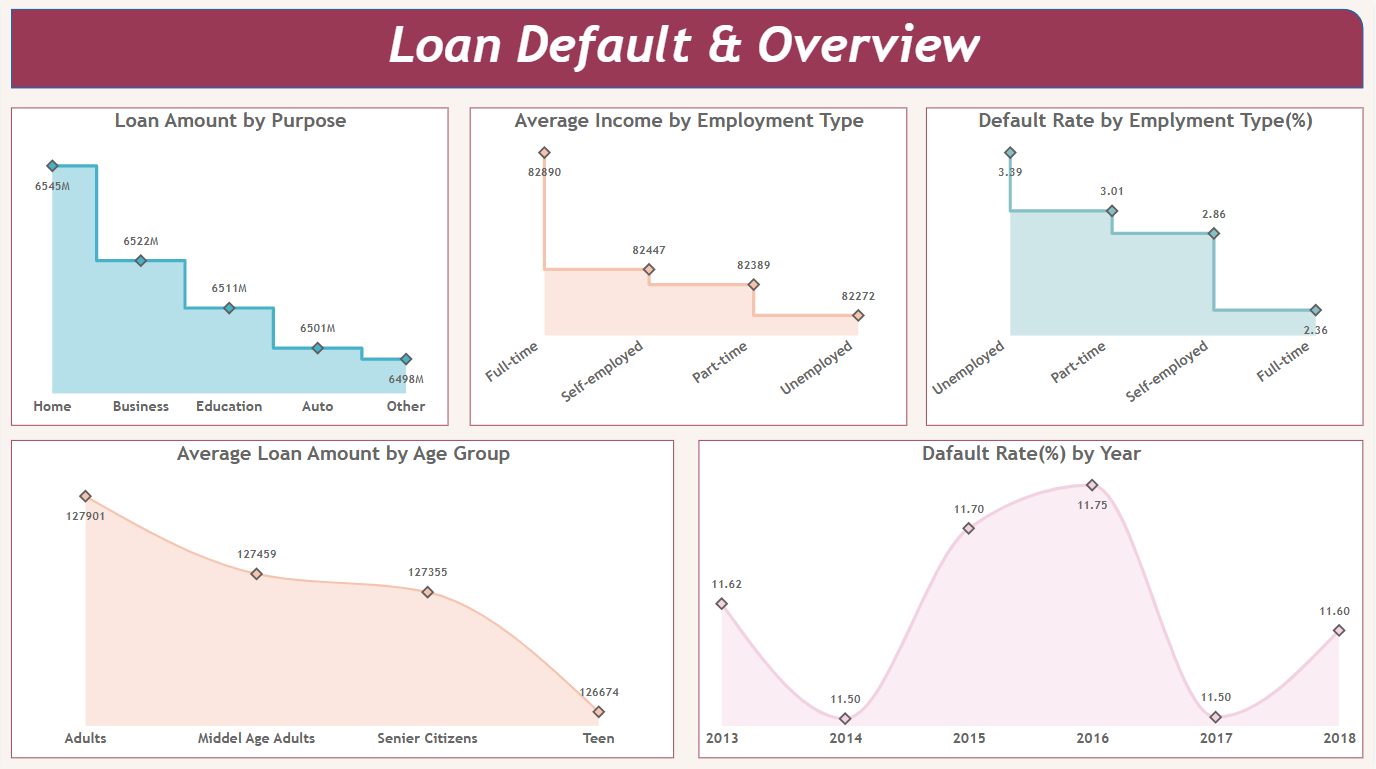

This screenshot's page, from the dashboard's own definition file:
{"tool":"powerbi","page":{"name":"Loan Default & Overview","canvas":[1280,720],"ordinal":0},"visuals":[{"type":"shape","box":[9.5,8.1,1261.4,74.3],"z":0},{"type":"lineChart","title":"Loan Amount by Purpose ","fields":{"Y":["Measures Table 1.Loan Amount by Purpose"],"Category":["Loan_default.LoanPurpose"]},"box":[9.5,99.9,407.9,297.1],"z":1000},{"type":"lineChart","title":"Average Income by Employment Type","fields":{"Y":["Measures Table 1.Average Income by EmployementType"],"Category":["Loan_default.EmploymentType"]},"box":[437.6,99.9,407.9,297.1],"z":2000},{"type":"lineChart","title":"Default Rate by Emplyment Type(%)","fields":{"Y":["Measures Table 1.Default Rate by Employment Type"],"Category":["Loan_default.EmploymentType"]},"box":[863,99.9,407.9,297.1],"z":3000},{"type":"lineChart","title":"Average Loan Amount by Age Group","fields":{"Category":["Loan_default.Age Group"],"Y":["Measures Table 1.Average LoanAmount by Age Group"]},"box":[9.5,410.6,618.5,297.1],"z":4000},{"type":"lineChart","title":"Dafault Rate(%) by Year","fields":{"Category":["Loan_default.Year"],"Y":["Measures Table 1.Default Rate by Year"]},"box":[650.9,410.6,619.9,297.1],"z":5000}]}

Visuals, with their boxes in screenshot pixels (x1, y1, x2, y2), scaled from the page's 1280x720 canvas onto the 1376x769 screenshot:
shape: x1=10 y1=9 x2=1366 y2=88
"Loan Amount by Purpose " lineChart: x1=10 y1=107 x2=449 y2=424
"Average Income by Employment Type" lineChart: x1=470 y1=107 x2=909 y2=424
"Default Rate by Emplyment Type(%)" lineChart: x1=928 y1=107 x2=1366 y2=424
"Average Loan Amount by Age Group" lineChart: x1=10 y1=439 x2=675 y2=756
"Dafault Rate(%) by Year" lineChart: x1=700 y1=439 x2=1366 y2=756
